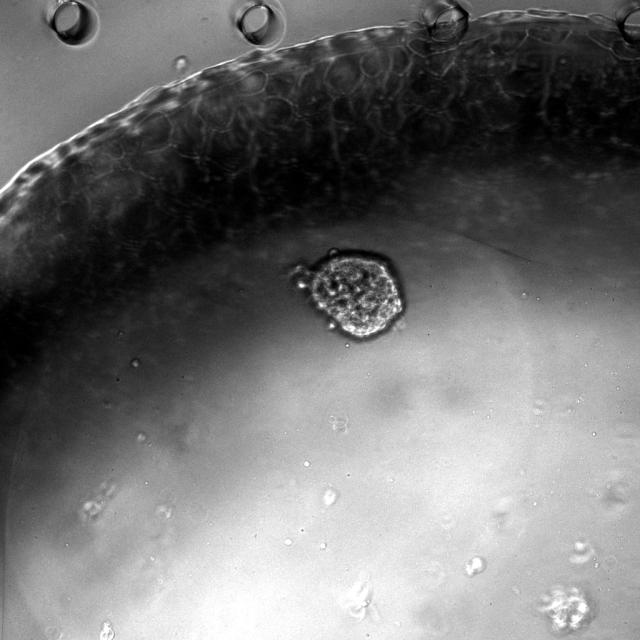organoid: (289, 248, 405, 341), (538, 586, 593, 634)
